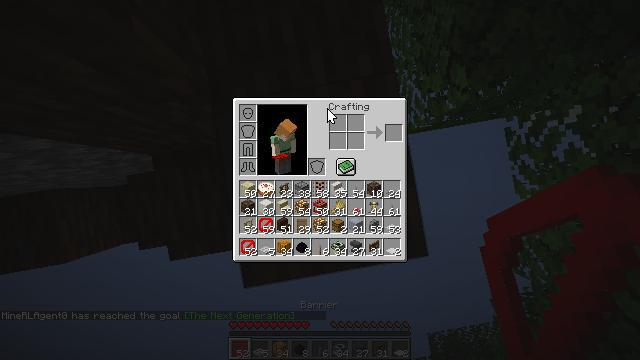cursor: (327, 108, 337, 124)
